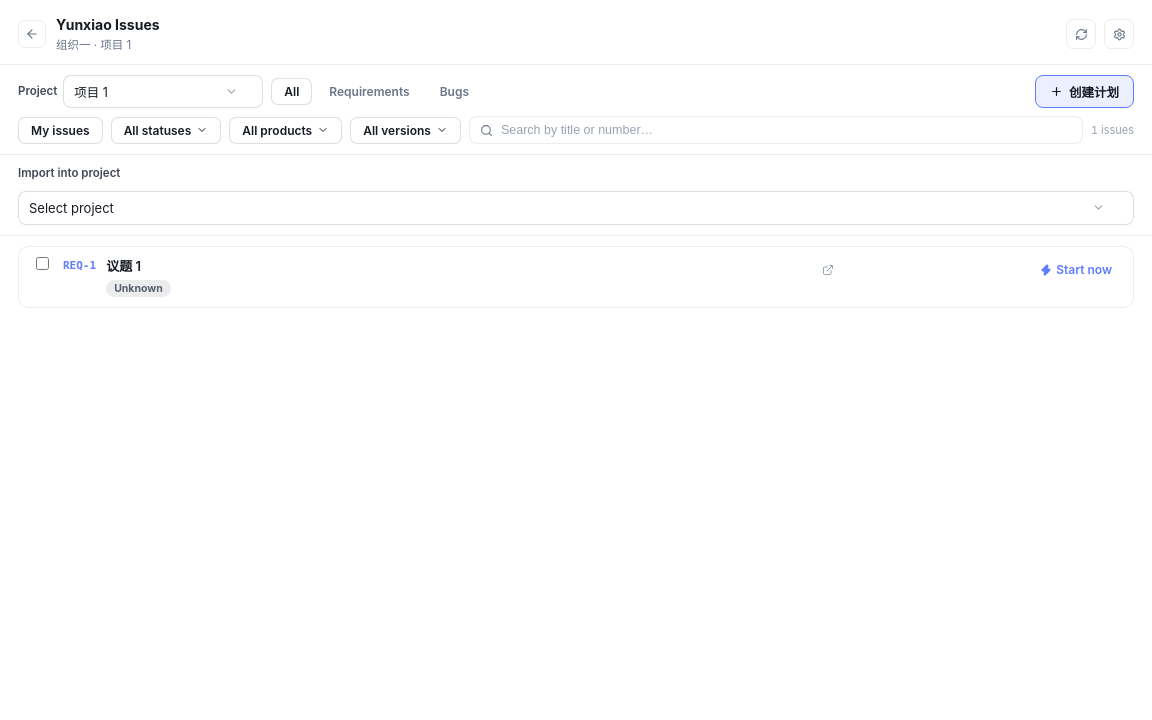
Test case: YunxiaoView 版本过滤 › 选择版本后以 version CONTAINS 条件重新请求，并按项目持久化
Step 1. Click the button labelled "All versions" → coordinates (406, 130), box [350, 117, 461, 144]
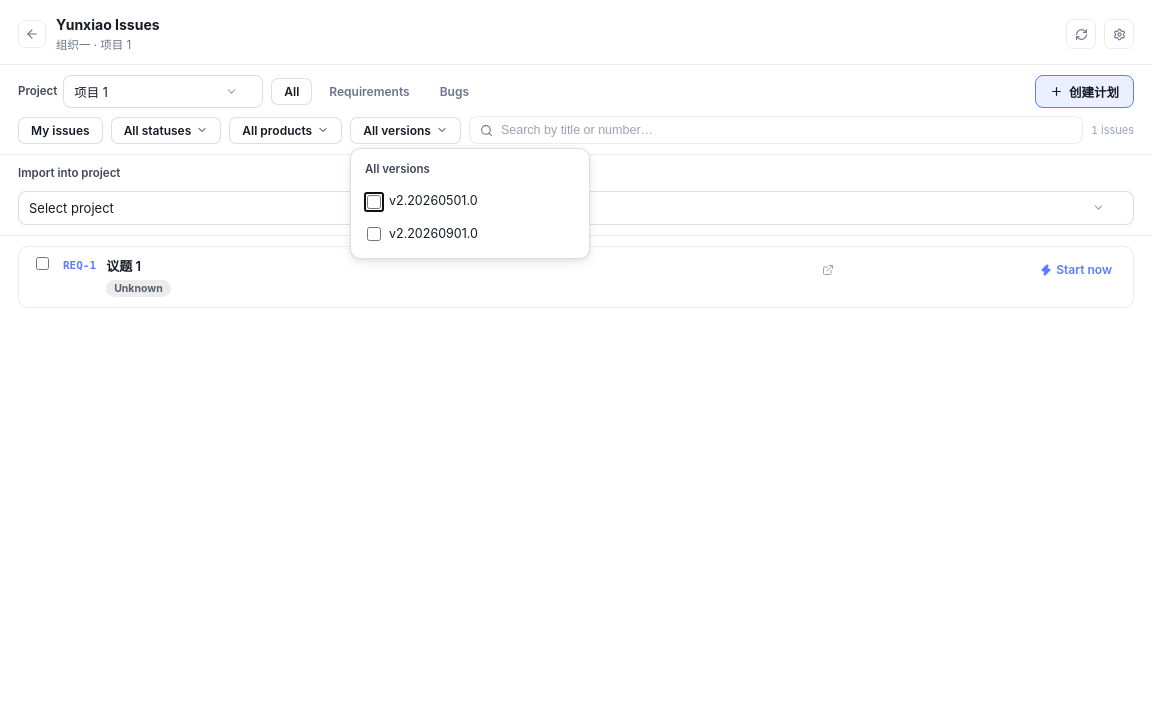
Step 2. Click the text "v2.20260501.0" → coordinates (433, 201), box [389, 193, 478, 208]
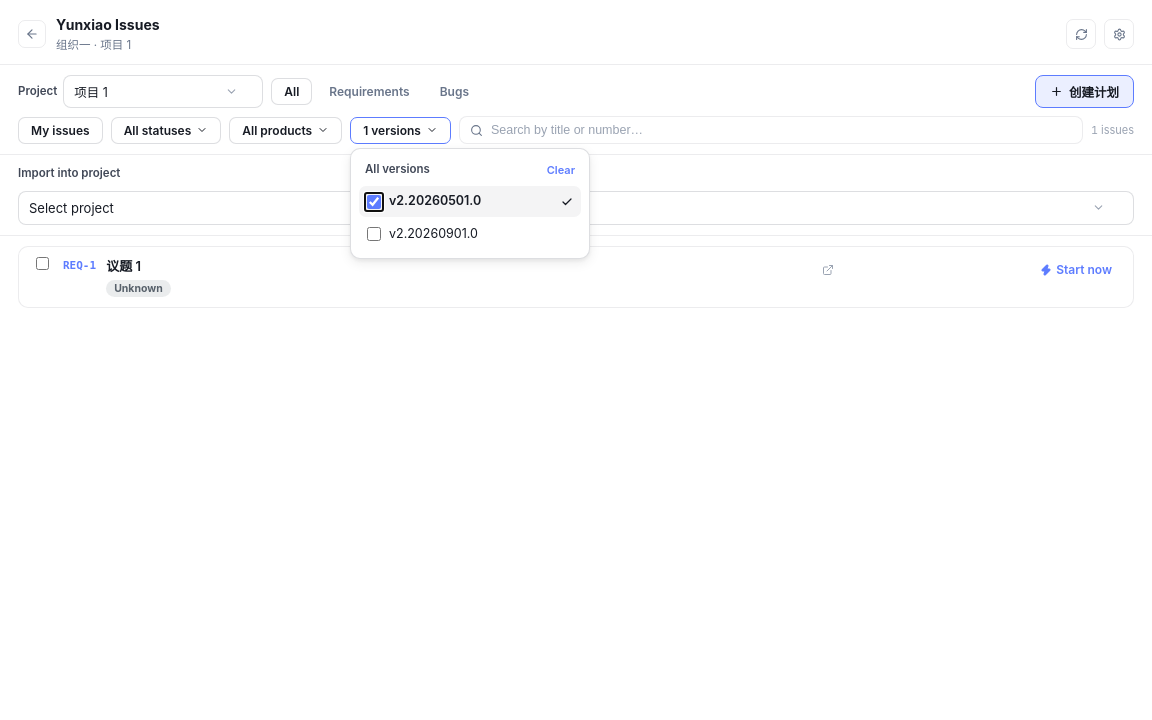
Expected: the button "1 versions" is shown, [350, 117, 451, 144]
